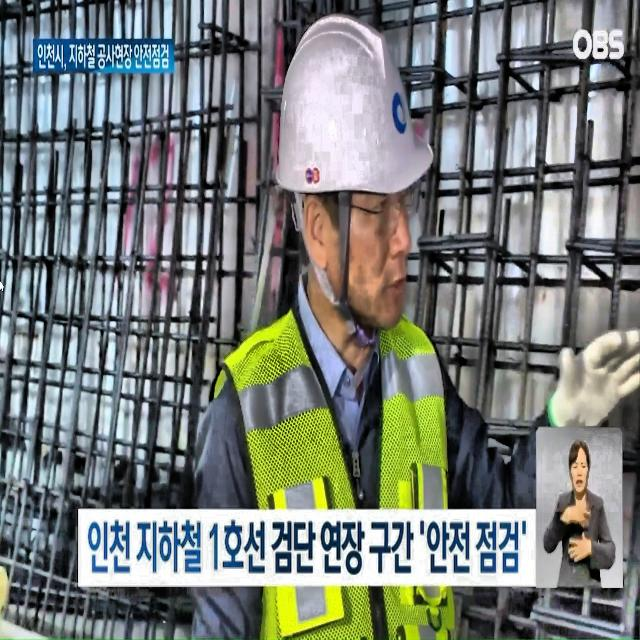safety_helmet: (266, 9, 440, 210)
safety_jacket: (206, 302, 465, 640)
